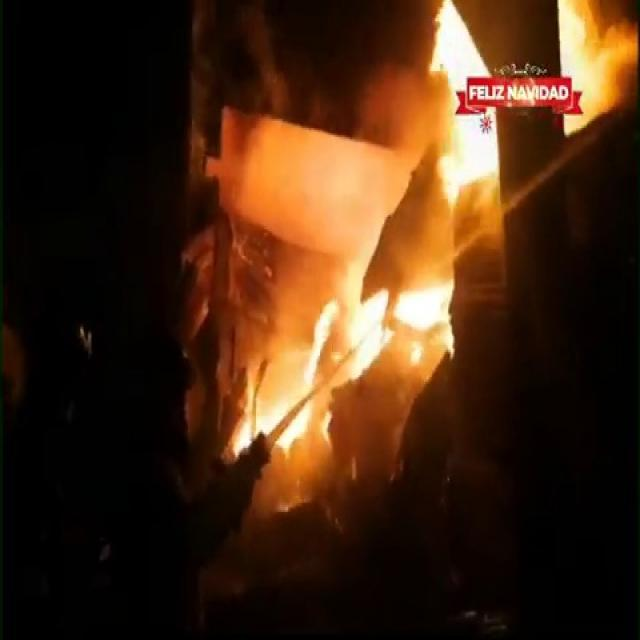Fire: (230, 246, 454, 454), (427, 6, 497, 196), (554, 8, 634, 134)
